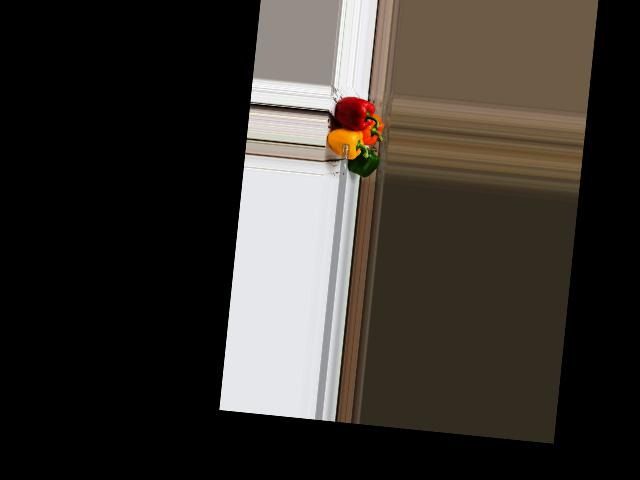bell_pepper: (359, 113, 385, 147)
